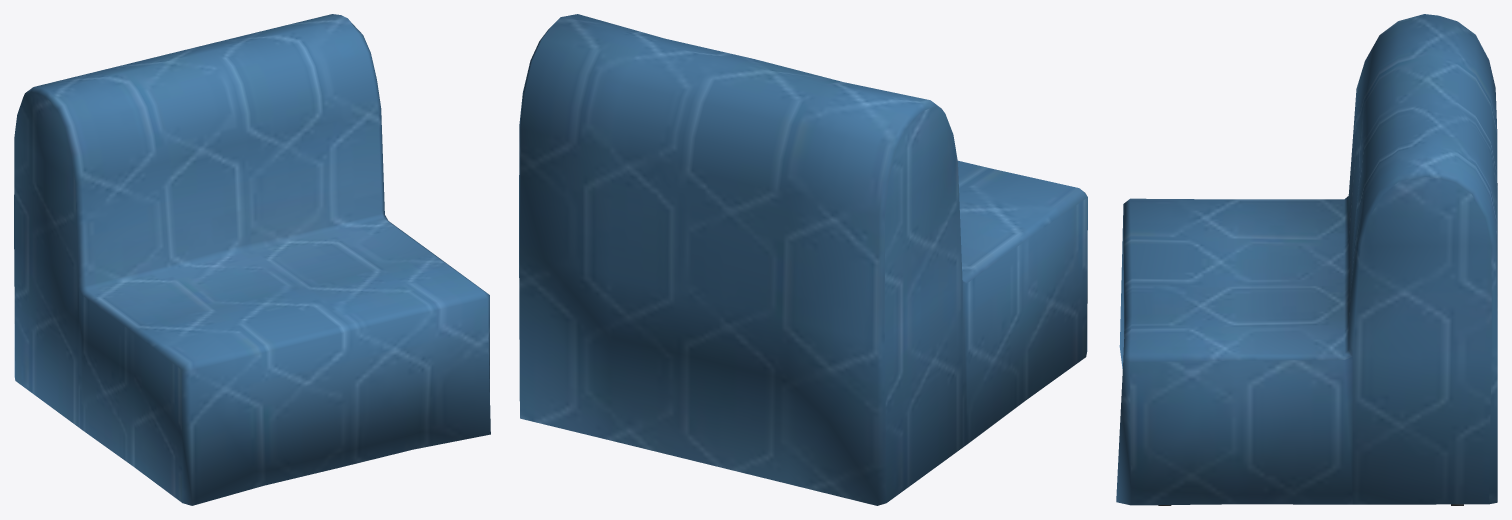
File: sh-scopia-convertible-sofa-bz-closed.glb
3 renders of one model, left to right at view 1: azimuth 30°, elevation 25°; view 2: azimuth 150°, elevation 25°; view 3: azimuth 270°, elevation 25°, orthographic. The views are drawn at different scales.
Parts seen in each view (by area): view 1: sofa_Cube.002; view 2: sofa_Cube.002; view 3: sofa_Cube.002.
Part boxes in pixels (left/top/right/bottom): sofa_Cube.002: left=14, top=14, right=490, bottom=505; sofa_Cube.002: left=519, top=14, right=1087, bottom=505; sofa_Cube.002: left=1116, top=14, right=1497, bottom=505.
Bounding box in the file's own units: 1 × 1 × 1.
4 materials, 1 textured.
